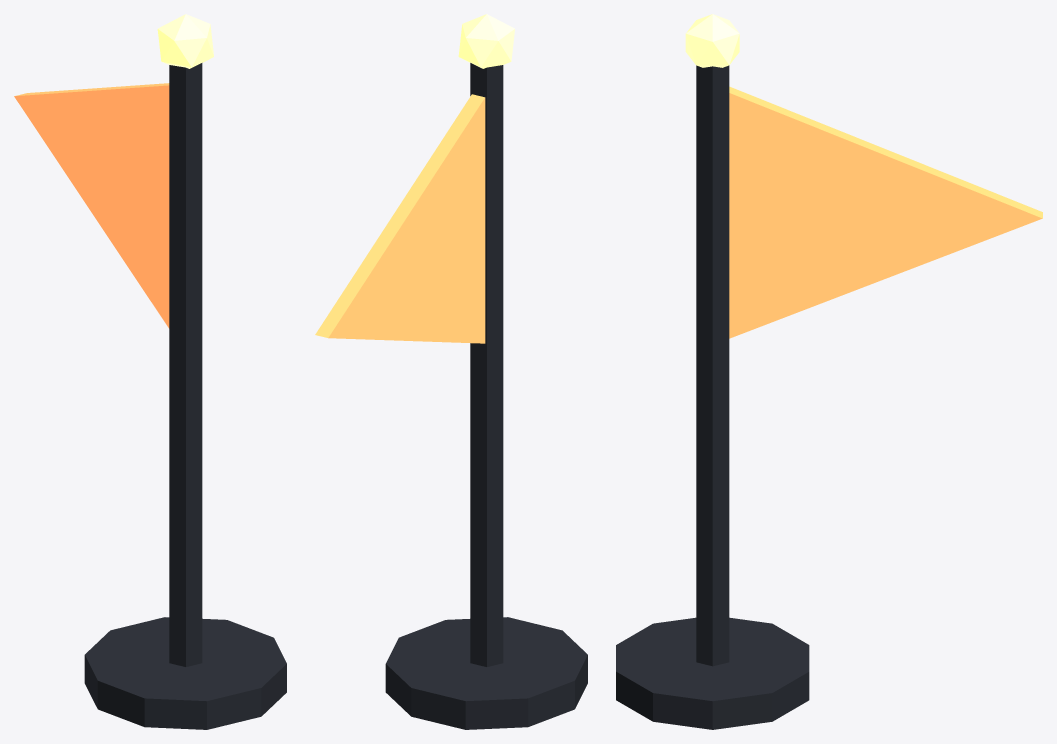
3 renders of one model, left to right at view 1: azimuth 30°, elevation 25°; view 2: azimuth 150°, elevation 25°; view 3: azimuth 270°, elevation 25°, orthographic.
Visible parts, largest first — view 1: vertical_flag.lod0; view 2: vertical_flag.lod0; view 3: vertical_flag.lod0.
Part boxes in pixels (x1,y1,x2,y2): vertical_flag.lod0: [14, 14, 286, 729]; vertical_flag.lod0: [315, 14, 587, 729]; vertical_flag.lod0: [616, 14, 1042, 729].
Size of the model in its own units: 0.32 by 1.17 by 0.6722.
